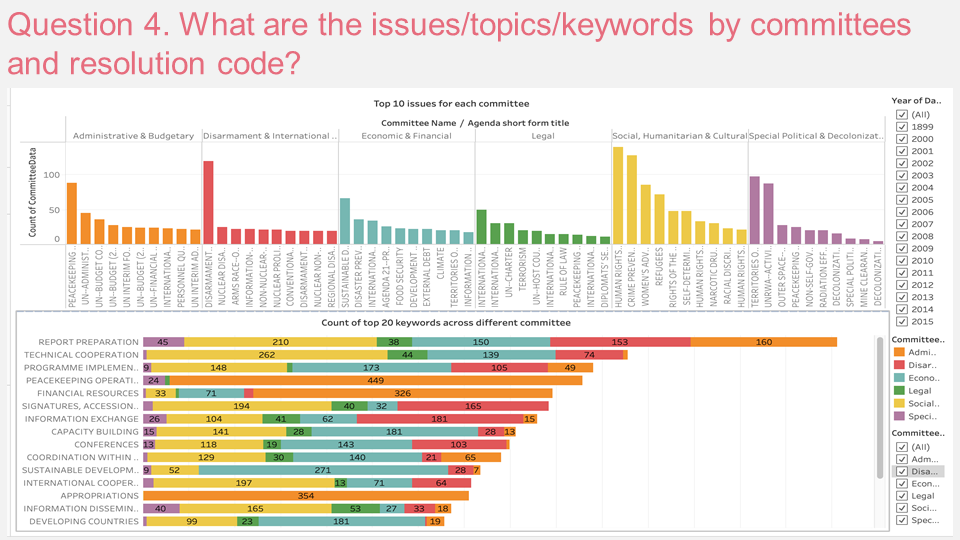

This screenshot's page, from the dashboard's own definition file:
{"tool":"tableau","page":{"name":"1 N_Question 1","canvas":[1150,1000],"ordinal":0},"visuals":[{"type":"title","box":[8,8,1134,42]},{"type":"worksheet","title":"N_Top10Key (1)","mark":"Bar","rows":["Keywords (CommiteesDataCleanedFinal.csv)"],"cols":["ID (CommiteesDataCleanedFinal.csv)"],"box":[8,50,567,489.7]},{"type":"worksheet","title":"N_Top10Key (2)","mark":"Automatic","rows":["Committee Name"],"cols":["ID (CommiteesDataCleanedFinal.csv)"],"box":[575,50,567,489.7]},{"type":"worksheet","title":"N_Top10Key (3)","mark":"Bar","rows":["Keywords (CommiteesDataCleanedFinal.csv)"],"cols":["ID (CommiteesDataCleanedFinal.csv)"],"box":[8,539.7,947.7,452.3]},{"type":"filter","title":"N_Top10Key (1)","param":"[federated.0c3w4mu0jfgfg613stw0z1ppa49d].[none:Keywords (CommiteesDataCleanedFin","box":[955.7,539.7,186.3,256.3]},{"type":"filter","title":"N_Top10Key (3)","param":"[federated.0c3w4mu0jfgfg613stw0z1ppa49d].[none:Committee Name:nk]","box":[955.7,796,186.3,196]},{"type":"legend","title":"N_Top10Key (3)","param":"[federated.0c3w4mu0jfgfg613stw0z1ppa49d].[none:Committee Name:nk]","box":[696,799,241,138]}]}

Visuals, with their boxes on the page's 1150x1000 design canvas (x1, y1, x2, y2). These are canvas units, not pixel positions in the 960x540 screenshot, which may show the page scaled, cropped or inside an application window:
title: (left=8, top=8, right=1142, bottom=50)
"N_Top10Key (1)" worksheet (Bar marks): (left=8, top=50, right=575, bottom=540)
"N_Top10Key (2)" worksheet: (left=575, top=50, right=1142, bottom=540)
"N_Top10Key (3)" worksheet (Bar marks): (left=8, top=540, right=956, bottom=992)
"N_Top10Key (1)" filter: (left=956, top=540, right=1142, bottom=796)
"N_Top10Key (3)" filter: (left=956, top=796, right=1142, bottom=992)
"N_Top10Key (3)" legend: (left=696, top=799, right=937, bottom=937)
